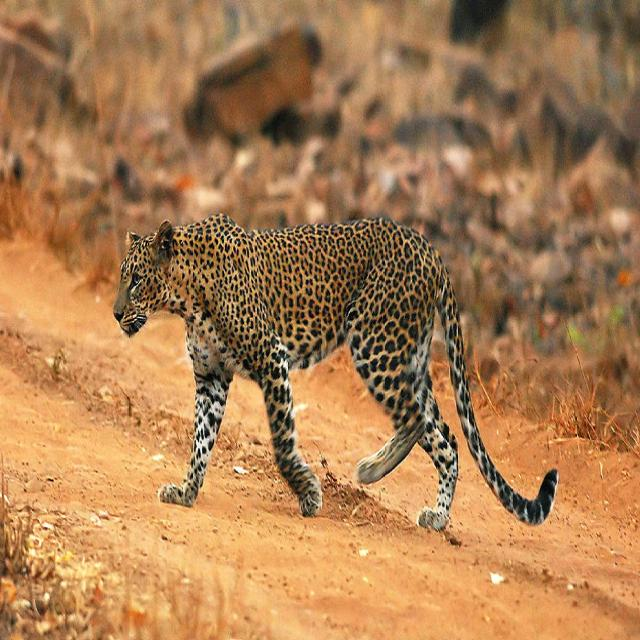Leopard: (115, 216, 553, 527)
